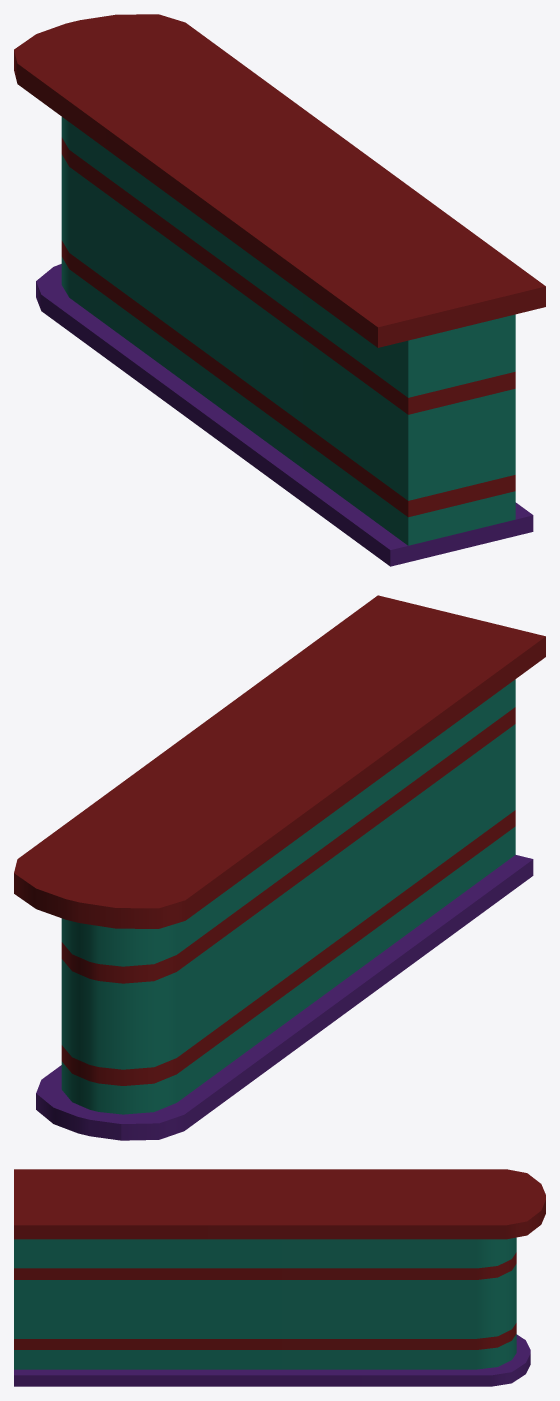
Rendered from SM_Bar.fbx.
3 renders of one model, top to bottom at view 1: azimuth 30°, elevation 25°; view 2: azimuth 150°, elevation 25°; view 3: azimuth 270°, elevation 25°, orthographic. The views are drawn at different scales.
Parts seen in each view (by area): view 1: pCube12; view 2: pCube12; view 3: pCube12.
Boxes of the visible parts, x1,y1,x2,y2 form: pCube12: (14, 14, 545, 566); pCube12: (14, 595, 545, 1140); pCube12: (14, 1169, 545, 1386).
Size of the model in its own units: 98.28 by 135 by 394.
